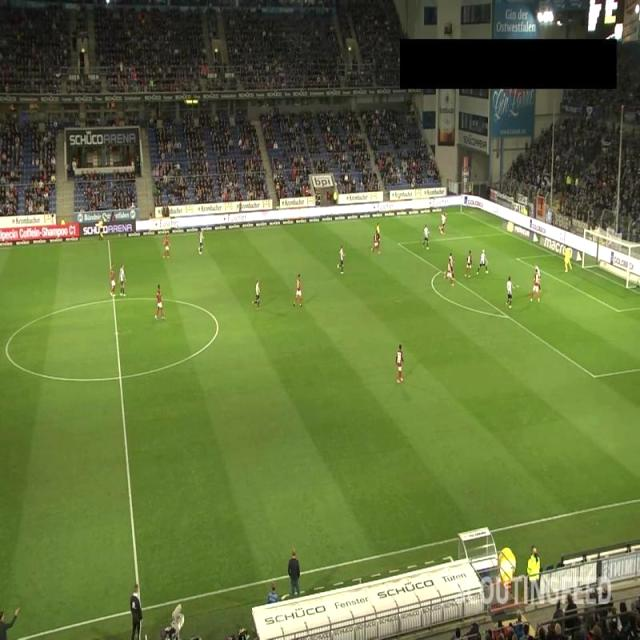bigarea_bottom_inner: (588, 370, 600, 383)
bigarea_top_inner: (392, 237, 404, 250)
bigarea_top_outter: (499, 226, 515, 240)
bottom_arc_area_intersection: (502, 310, 516, 324)
corner: (456, 207, 466, 218)
halfcircle_bottom: (113, 370, 127, 384)
halfcircle_top: (108, 294, 119, 305)
midline_bottom_intersection: (119, 594, 159, 620)
midline_top_intersection: (103, 233, 114, 244)
smallarea_bottom_inner: (612, 304, 624, 317)
smallarea_top_inner: (511, 252, 524, 264)
smallarea_top_outter: (548, 248, 561, 261)
top_arc_area_intersection: (434, 264, 448, 278)
